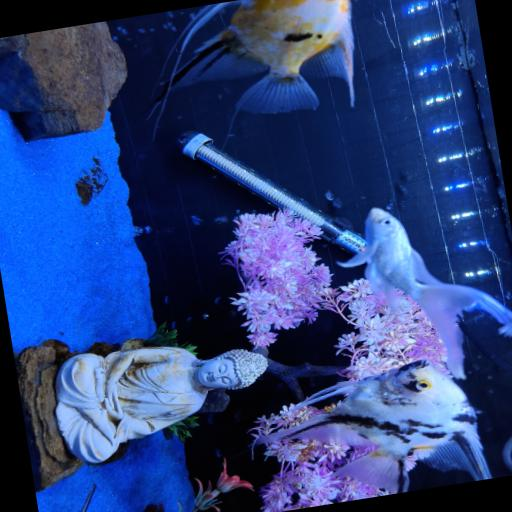Fish: (253, 361, 490, 493), (337, 208, 511, 378), (151, 0, 353, 113)
